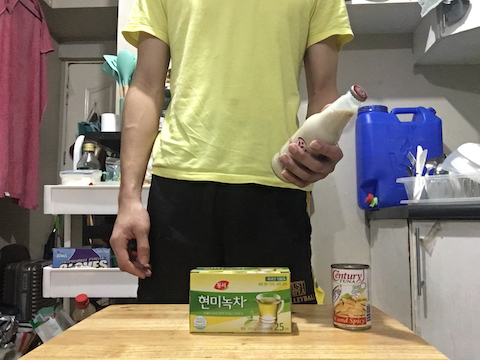bottle: (267, 79, 369, 185)
box: (184, 262, 297, 340)
can: (328, 261, 374, 333)
grab: (278, 139, 345, 191)
